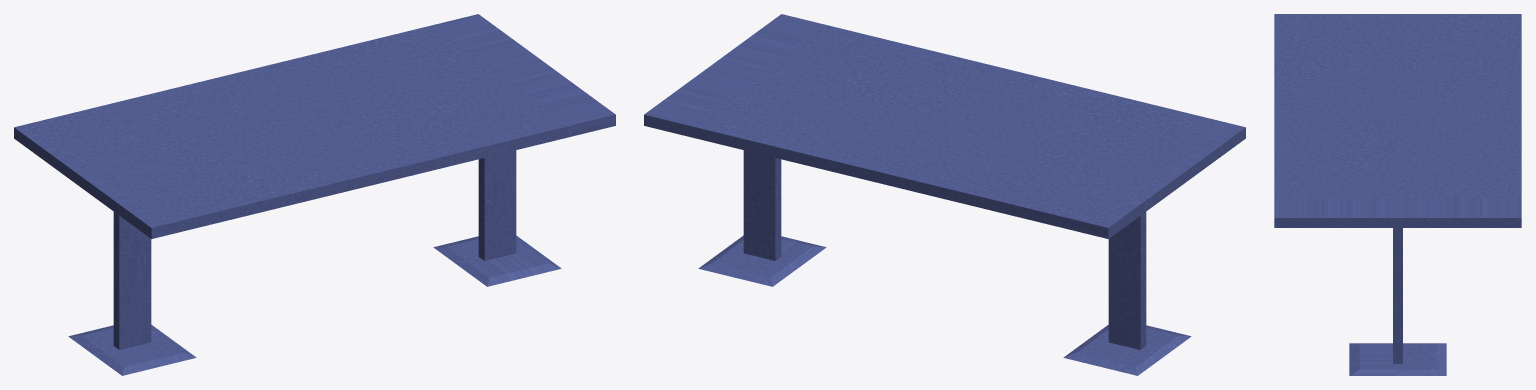
Rendered from mesa.fbx.
3 renders of one model, left to right at view 1: azimuth 30°, elevation 25°; view 2: azimuth 150°, elevation 25°; view 3: azimuth 270°, elevation 25°, orthographic. The views are drawn at different scales.
Visible parts, largest first — view 1: Cube; view 2: Cube; view 3: Cube.
Boxes of the visible parts, bbox=[...] form: Cube: bbox=[14, 14, 615, 375]; Cube: bbox=[644, 14, 1245, 375]; Cube: bbox=[1274, 14, 1521, 375].
Size of the model in its own units: 249 by 93.11 by 128.
